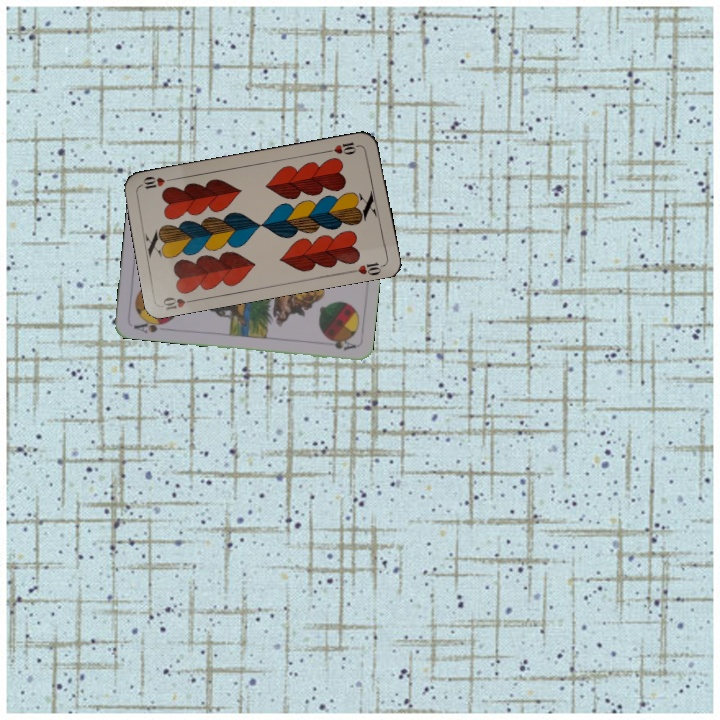H10: (159, 293, 200, 313), (323, 138, 363, 157)
SA: (130, 316, 170, 335)
